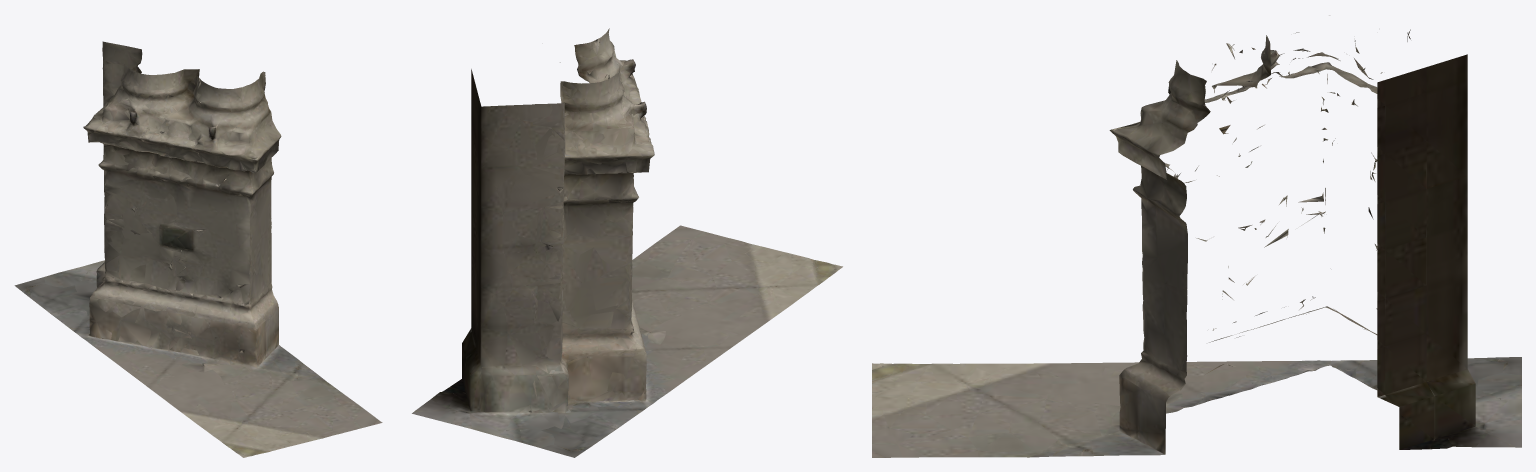
3 views of the same model, side by side, from view 1: azimuth 30°, elevation 25°; view 2: azimuth 150°, elevation 25°; view 3: azimuth 270°, elevation 25° (orthographic). The views are drawn at different scales.
Size of the model in its own units: 2.06 by 3.76 by 5.86.
1 material, 1 textured.
